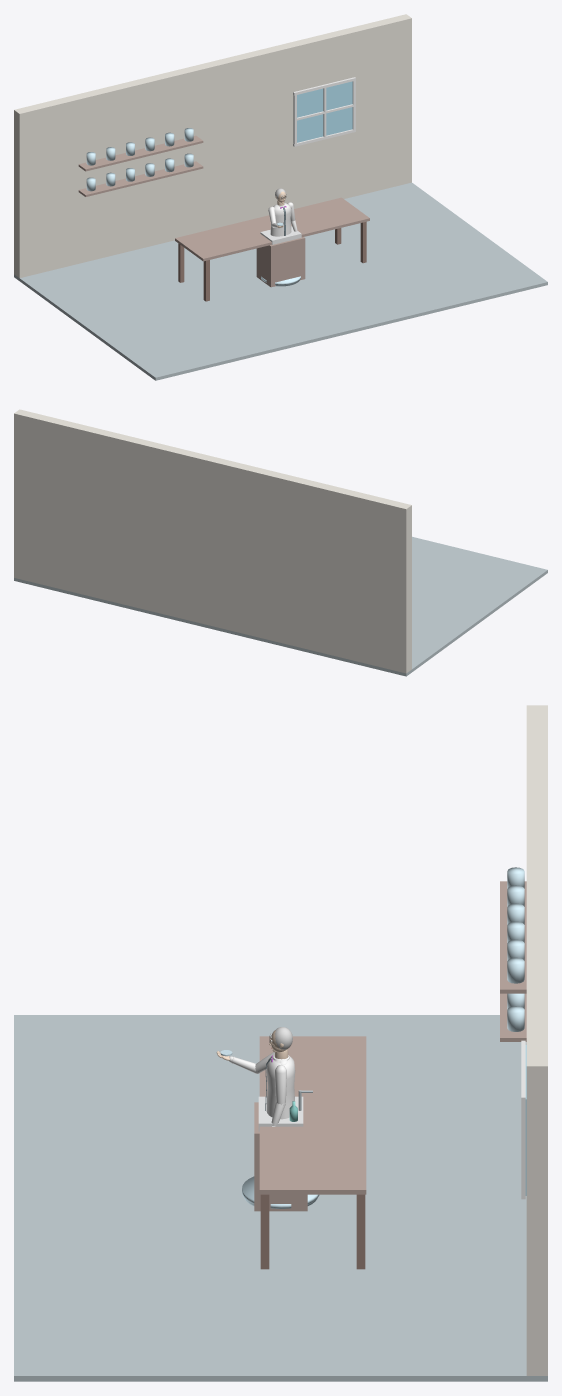
Rendered from fleming.glb.
The picture shows the model from 3 angles, top to bottom: view 1: azimuth 30°, elevation 25°; view 2: azimuth 150°, elevation 25°; view 3: azimuth 270°, elevation 25°; orthographic projection. The views are drawn at different scales.
Visible parts, largest first — view 1: fll_wall, fll_floor, fll_bench_top, fll_window, fls_cabinet, fll_shelf0, fll_shelf1, fleming_figure_fl_coat; view 2: fll_wall, fll_floor; view 3: fll_floor, fll_wall, fll_bench_top, fleming_figure_fl_coat, fll_shelf1, fls_cabinet.
Boxes of the visible parts, <box> form: fll_wall: <box>14,14,411,277</box>; fll_floor: <box>14,182,547,380</box>; fll_bench_top: <box>175,197,369,261</box>; fll_window: <box>297,81,352,142</box>; fls_cabinet: <box>256,237,305,287</box>; fll_shelf0: <box>78,161,203,196</box>; fll_shelf1: <box>78,135,203,171</box>; fleming_figure_fl_coat: <box>268,202,297,236</box>; fll_wall: <box>14,409,411,673</box>; fll_floor: <box>14,536,547,676</box>; fll_floor: <box>14,1015,547,1381</box>; fll_wall: <box>526,705,547,1375</box>; fll_bench_top: <box>259,1036,366,1194</box>; fleming_figure_fl_coat: <box>229,1052,295,1126</box>; fll_shelf1: <box>500,881,526,993</box>; fls_cabinet: <box>254,1102,307,1211</box>.
Bounding box in the file's own units: 8 × 3.26 × 5.
